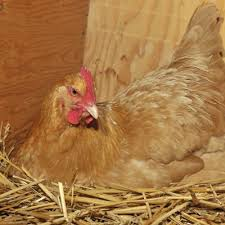buff: (26, 66, 195, 171)
